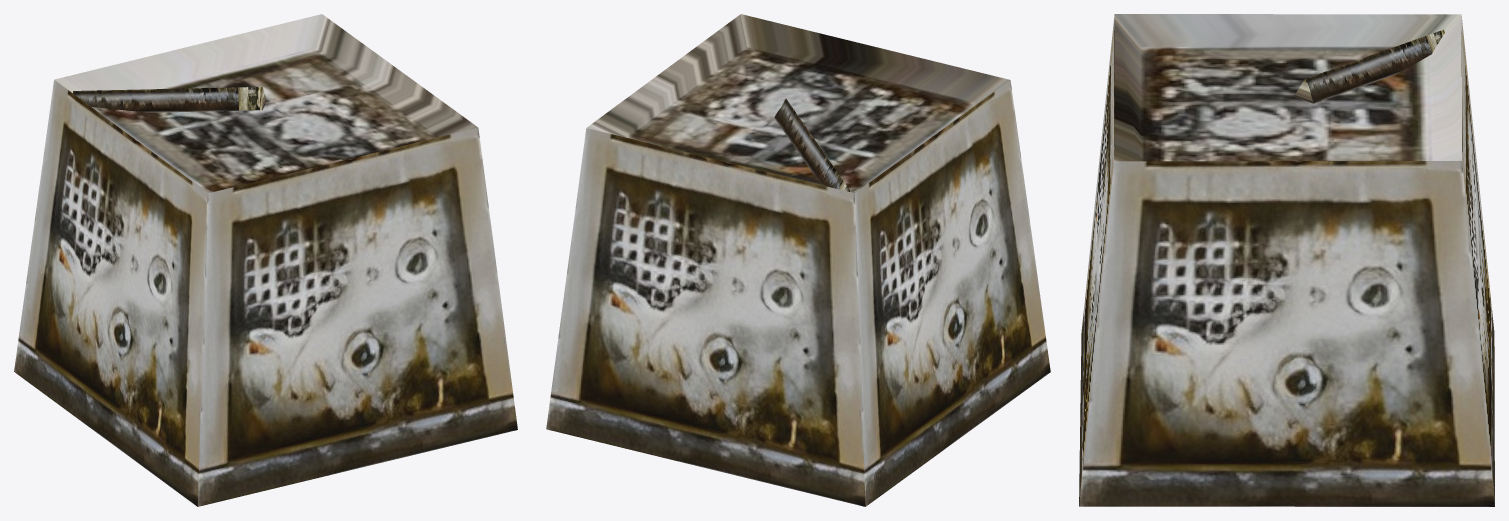
The model's file is d_lightpost_dam_hdtex.glb.
The picture shows the model from 3 angles, left to right: view 1: azimuth 30°, elevation 25°; view 2: azimuth 150°, elevation 25°; view 3: azimuth 270°, elevation 25°; orthographic projection. The views are drawn at different scales.
Visible parts, largest first — view 1: DavionLightPostDam; view 2: DavionLightPostDam; view 3: DavionLightPostDam.
Boxes of the visible parts, x1,y1,x2,y2 form: DavionLightPostDam: (14, 14, 517, 506); DavionLightPostDam: (546, 14, 1050, 506); DavionLightPostDam: (1079, 14, 1494, 506).
Size of the model in its own units: 4.54 by 4.16 by 4.57.
Materials: 1 (1 with a texture image).
